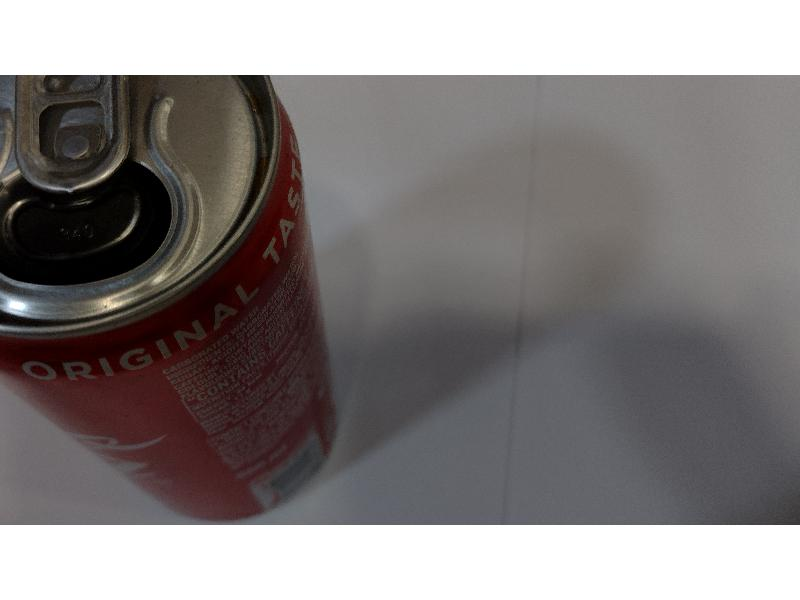can: (1, 74, 345, 522)
